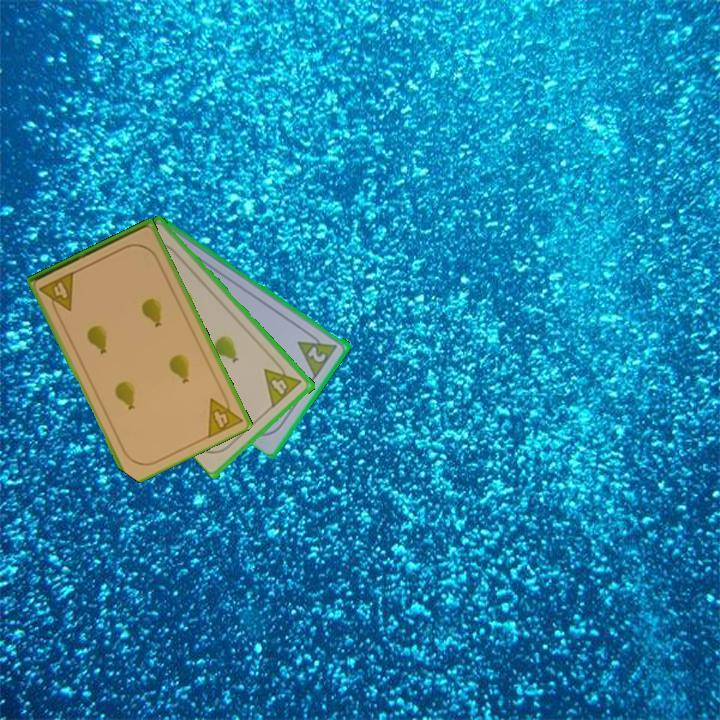2p: (294, 327, 341, 379)
4p: (261, 357, 305, 410), (204, 387, 245, 441), (36, 268, 78, 318)
